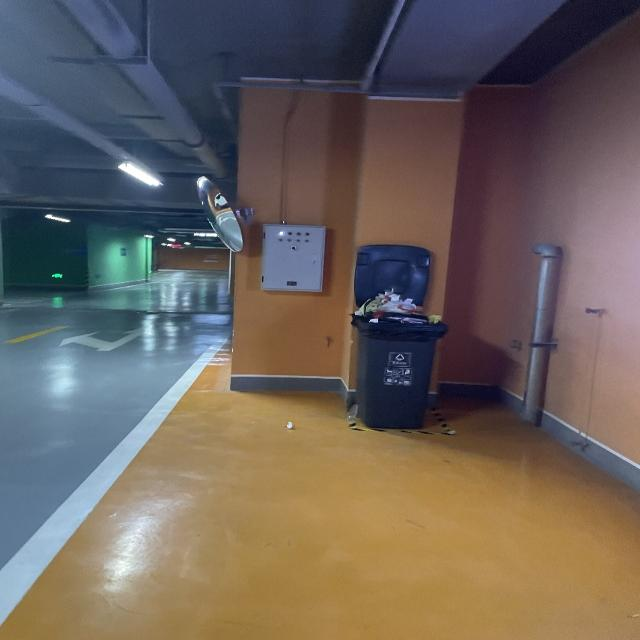overflow: (349, 287, 447, 428)
